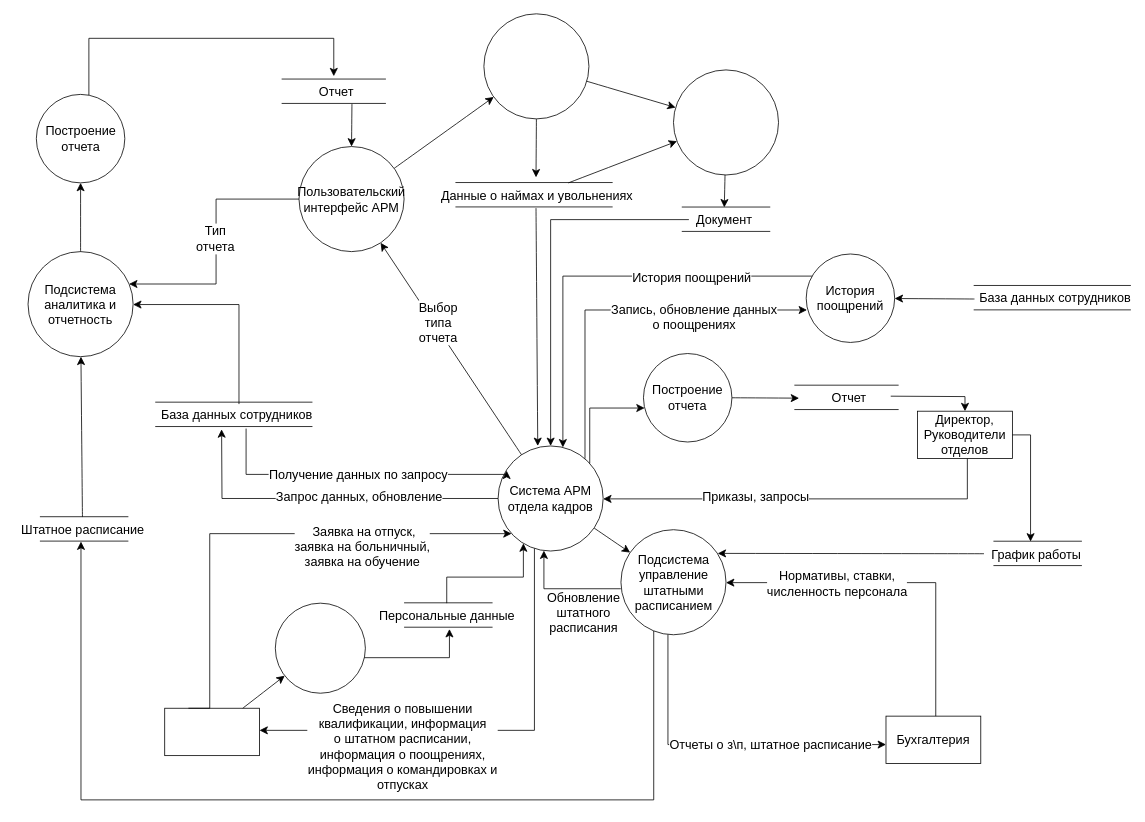
Some shapes in this 1145 by 822 pixel diagram are drawn without their labels. The shapes that lost their labels are listed below. From the top down, each one's centre as x and y in pixels, then its label:
At point (536, 66): "Подсистема управление процессом найма и увольнения".
At point (726, 122): "Оформление документации о приеме и увольнении".
At point (320, 647): "Подсистема управление персональными данными".
At point (212, 731): "Работник".
